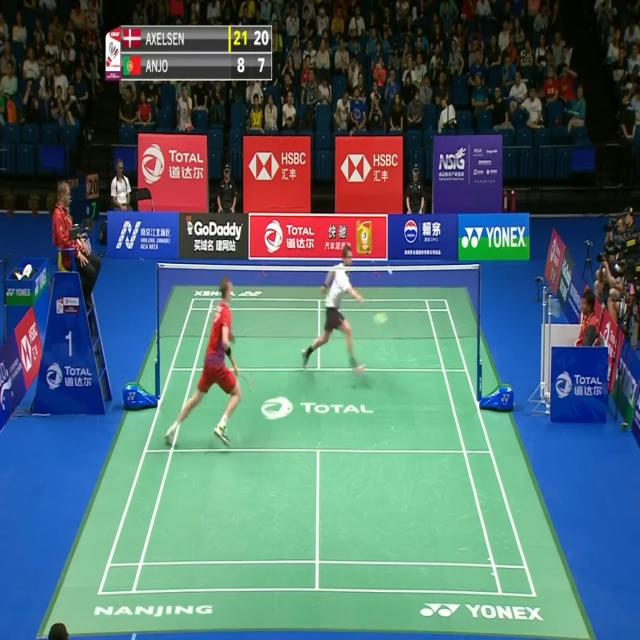Player1: (161, 274, 249, 452)
Player2: (299, 239, 375, 384)
